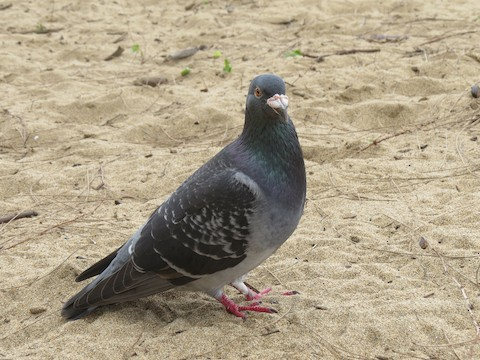pigeon: (59, 69, 312, 328)
